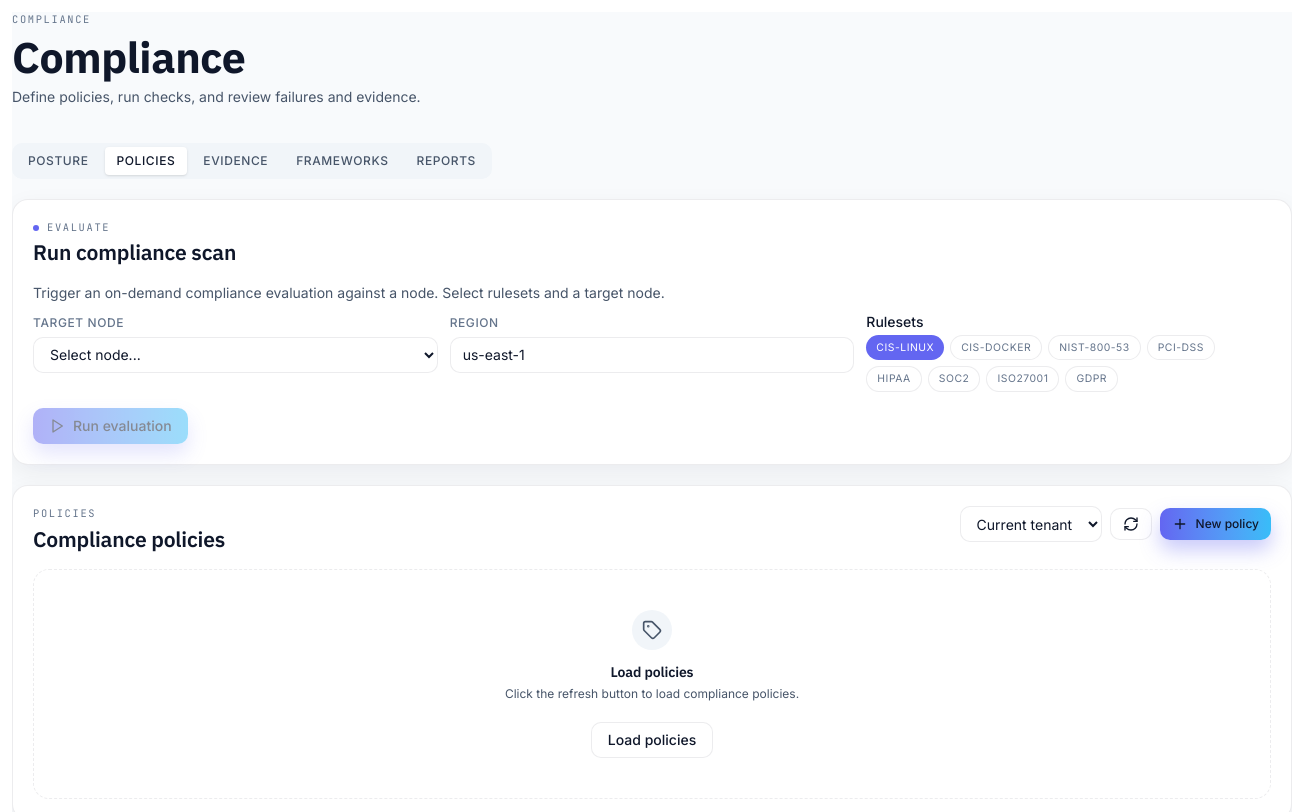
Compliance policies › surfaces assignment load failures instead of showing a false empty state
Click the button "Load policies" at (652, 740), box [591, 722, 713, 758]
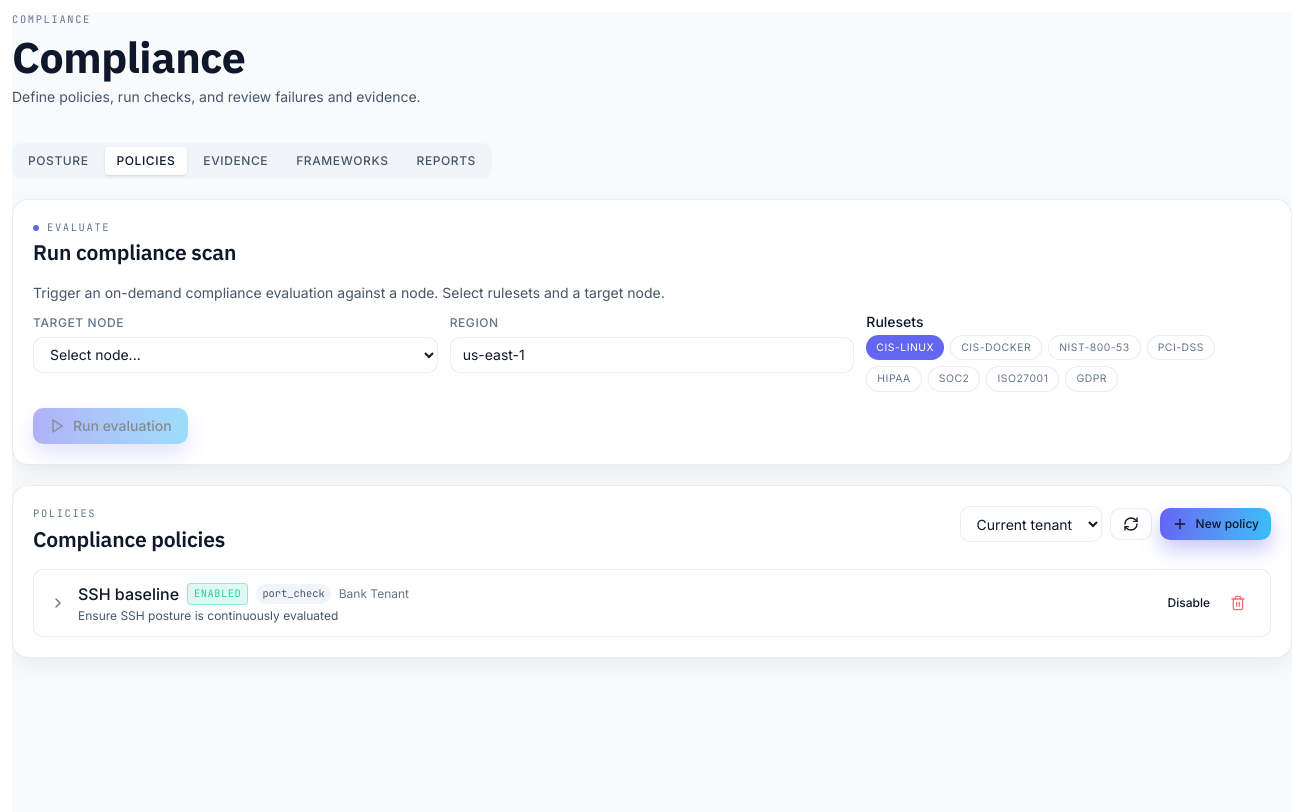
Click the button named "expand compliance policy ssh baseline" at (58, 603), box [50, 595, 66, 611]
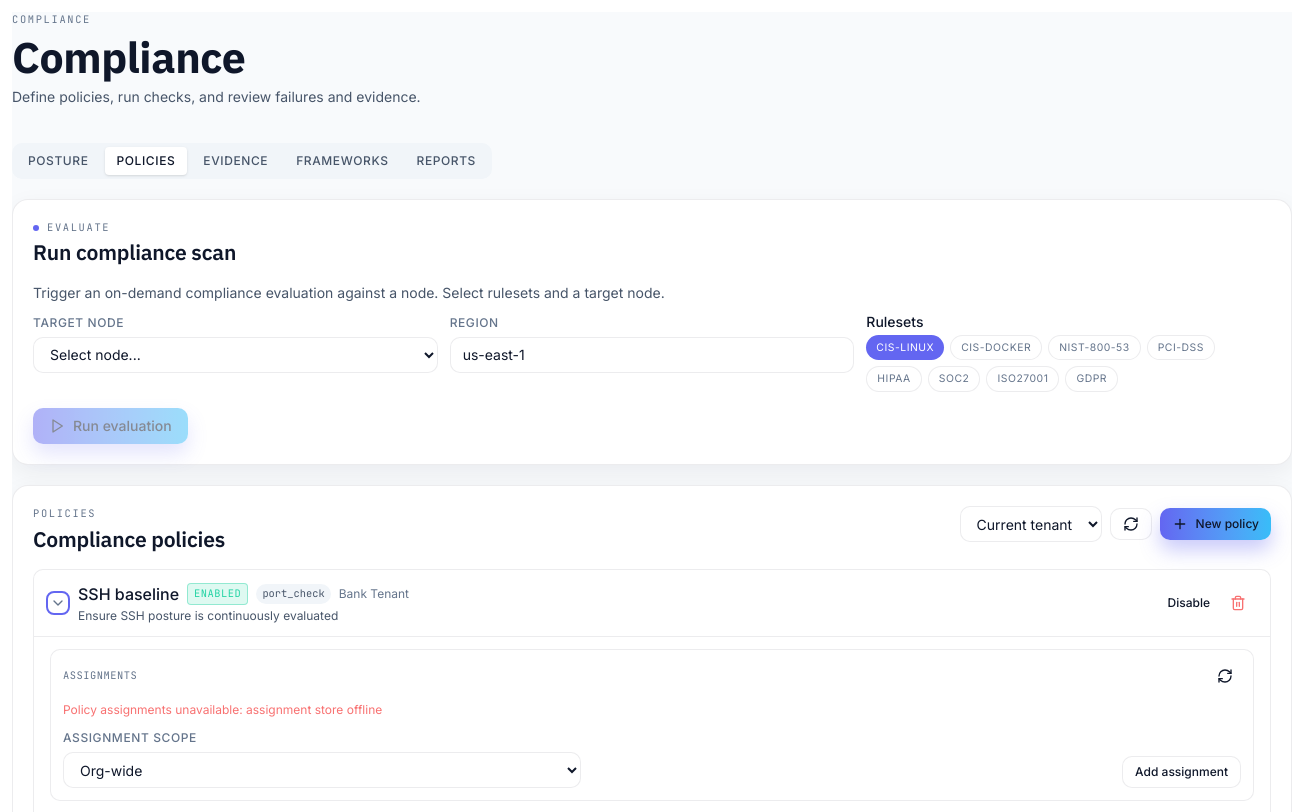
Now the text "Policy assignments unavailable: assignment store offline" is shown, box [63, 702, 382, 717]
